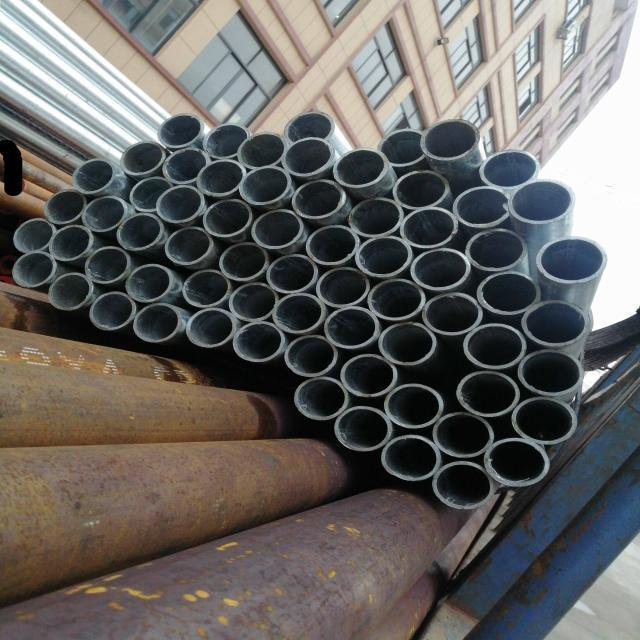pipe: (533, 234, 608, 286), (482, 436, 551, 489), (520, 299, 591, 349), (518, 346, 585, 398), (509, 396, 577, 446), (454, 369, 522, 418), (430, 460, 495, 511), (463, 225, 530, 274), (378, 433, 441, 483), (420, 290, 485, 338), (475, 270, 542, 316), (461, 323, 528, 369), (507, 180, 575, 225), (433, 410, 496, 457), (331, 406, 393, 453), (382, 383, 443, 430), (376, 322, 438, 368), (418, 118, 482, 161), (411, 246, 472, 291), (337, 353, 398, 398), (365, 278, 427, 322), (322, 305, 380, 352), (476, 147, 542, 188), (452, 185, 512, 229), (290, 376, 348, 421), (400, 205, 459, 249), (354, 236, 414, 279), (290, 177, 346, 221), (262, 253, 320, 295), (283, 335, 339, 378), (332, 148, 389, 190), (348, 196, 406, 237), (161, 224, 215, 268), (232, 321, 286, 365), (280, 136, 336, 178), (183, 307, 236, 351), (271, 292, 326, 334), (316, 267, 371, 309), (237, 165, 293, 206), (393, 169, 450, 209), (304, 224, 359, 265), (132, 301, 182, 346), (200, 198, 254, 239), (86, 289, 137, 332), (218, 241, 269, 282), (154, 184, 206, 224), (375, 127, 427, 167), (115, 211, 165, 252), (123, 262, 173, 303), (235, 131, 288, 169), (83, 245, 133, 285), (180, 268, 230, 308), (195, 159, 247, 197), (201, 121, 250, 161), (161, 145, 211, 184), (79, 194, 129, 233), (228, 283, 278, 322), (46, 271, 93, 312), (126, 173, 174, 213), (47, 224, 94, 264), (70, 156, 116, 195), (282, 111, 337, 143), (10, 250, 56, 288), (119, 139, 166, 176), (156, 112, 204, 148), (11, 218, 58, 254), (42, 187, 87, 224)
